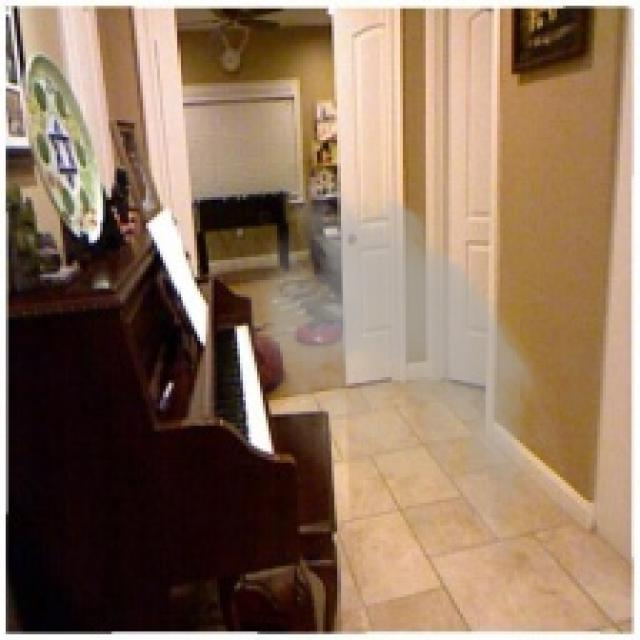smoke: (226, 166, 574, 591)
